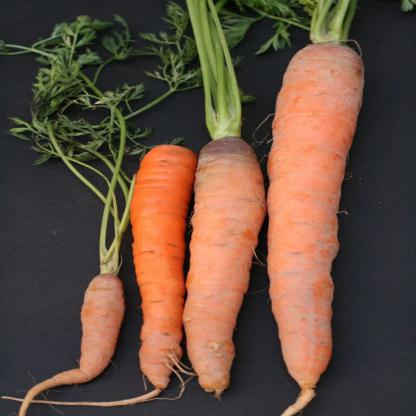Carrot: (4, 12, 155, 416), (0, 145, 197, 404), (250, 0, 364, 416), (183, 0, 266, 401)
